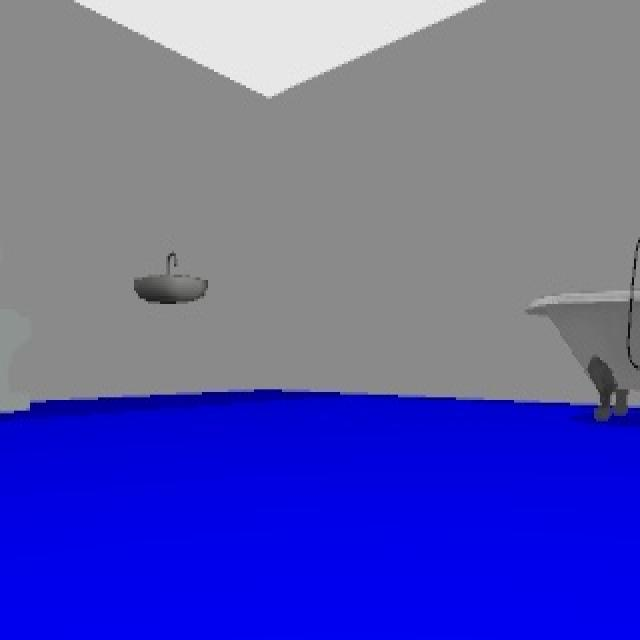bathtub: (528, 240, 638, 424)
